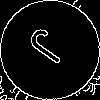J: (25, 25, 78, 72)
